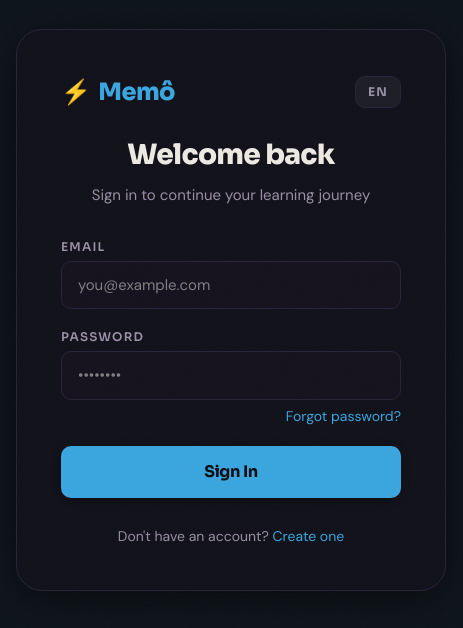
Test: LoginPage › shows email validation error for invalid email
Type "not-an-email" into the field labelled "Email" at (231, 285), box [61,261,401,309]
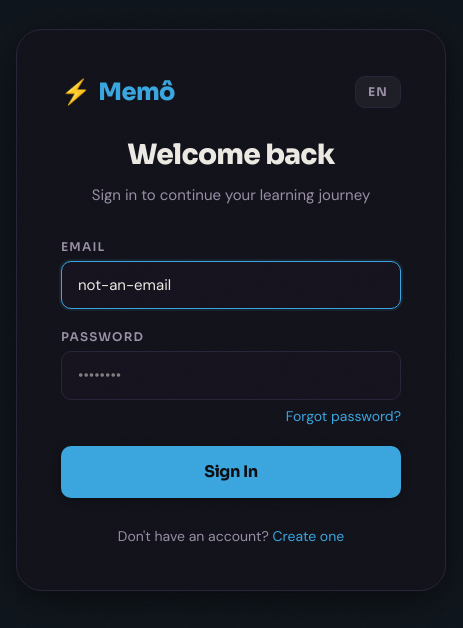
Type "password123" into the password field labelled "Password" at (231, 376), box [61,351,401,400]
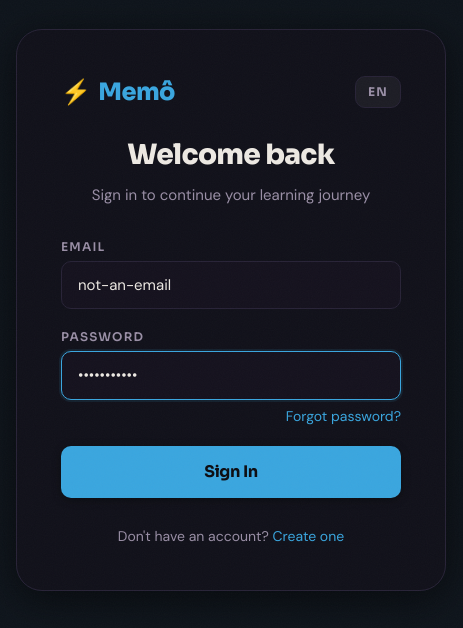
Click the button "Sign In" at (231, 472), box [61,446,401,498]
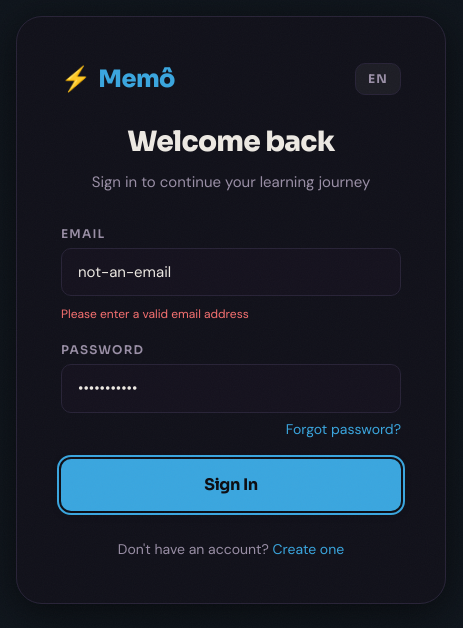
Now the text "Please enter a valid email address" is shown, box [61,306,249,322]
